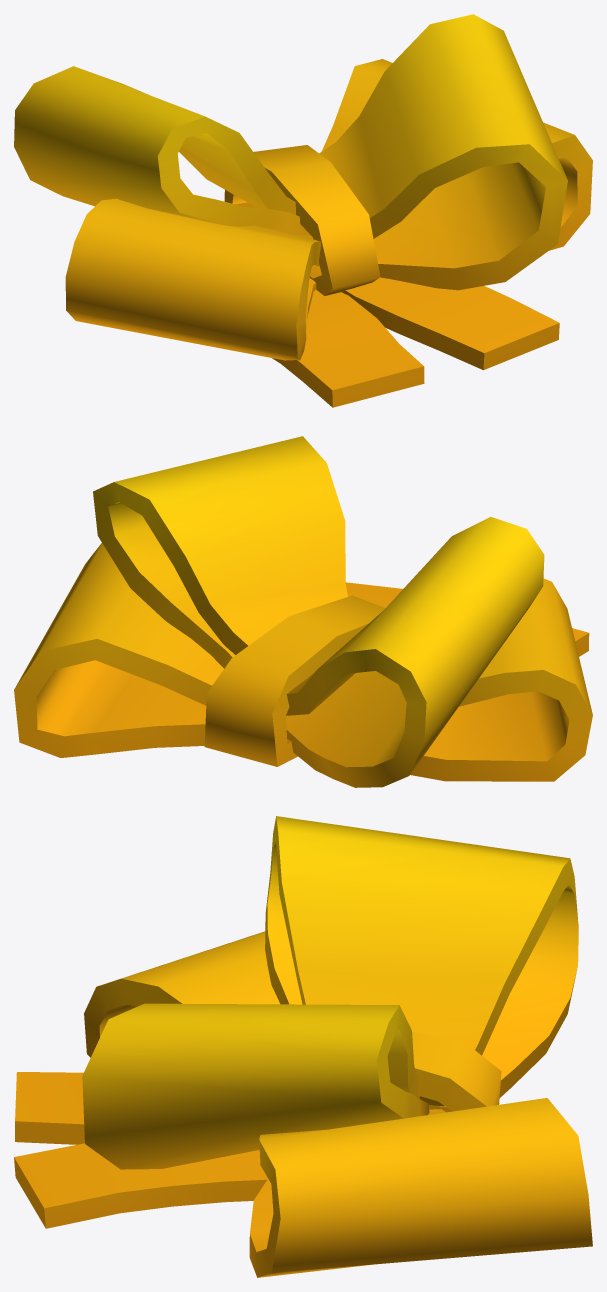
File: bow_018.fbx
3 renders of one model, top to bottom at view 1: azimuth 30°, elevation 25°; view 2: azimuth 150°, elevation 25°; view 3: azimuth 270°, elevation 25°, orthographic. The views are drawn at different scales.
Parts seen in each view (by area): view 1: bow_018; view 2: bow_018; view 3: bow_018.
Part boxes in pixels (x1,y1,x2,y2): bow_018: (14, 14, 592, 407); bow_018: (14, 436, 592, 787); bow_018: (14, 816, 592, 1277).
Size of the model in its own units: 246 by 206 by 99.13.
